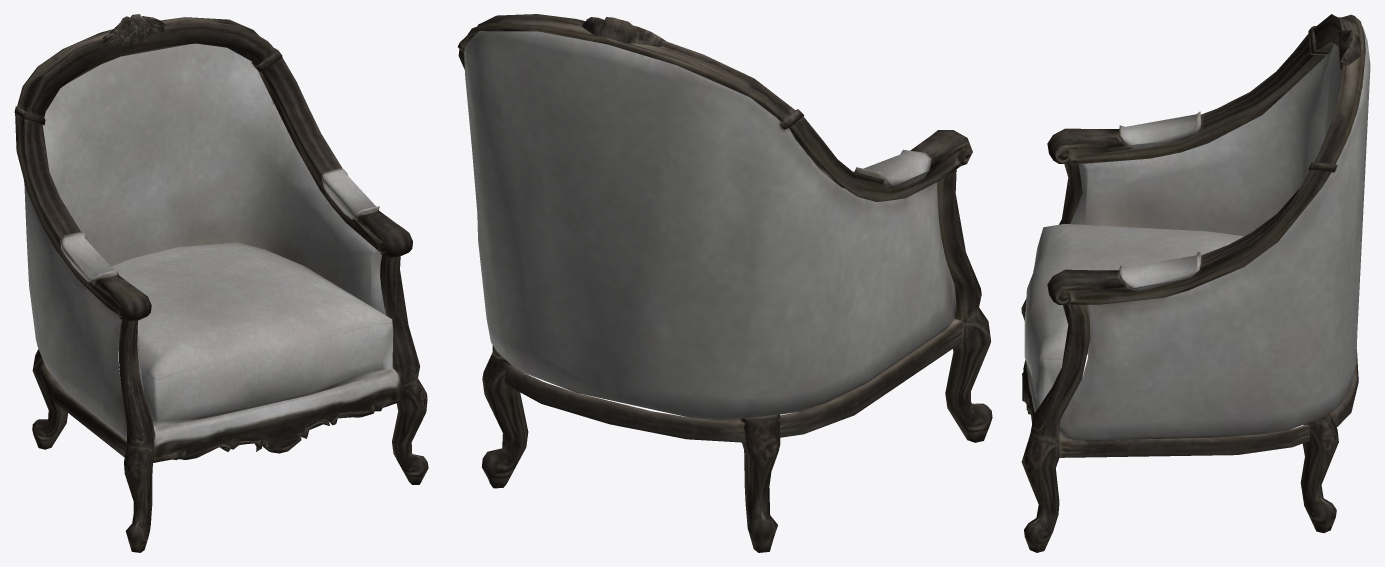
File: armchair.glb
3 renders of one model, left to right at view 1: azimuth 30°, elevation 25°; view 2: azimuth 150°, elevation 25°; view 3: azimuth 270°, elevation 25°, orthographic. The views are drawn at different scales.
Parts seen in each view (by area): view 1: ArmChair_01; view 2: ArmChair_01; view 3: ArmChair_01.
Part boxes in pixels (left/top/right/bottom): ArmChair_01: left=14, top=14, right=428, bottom=552; ArmChair_01: left=457, top=14, right=992, bottom=552; ArmChair_01: left=1021, top=14, right=1370, bottom=552.
Bounding box in the file's own units: 0.8482 × 1.06 × 0.7658.
1 material, 1 textured.
